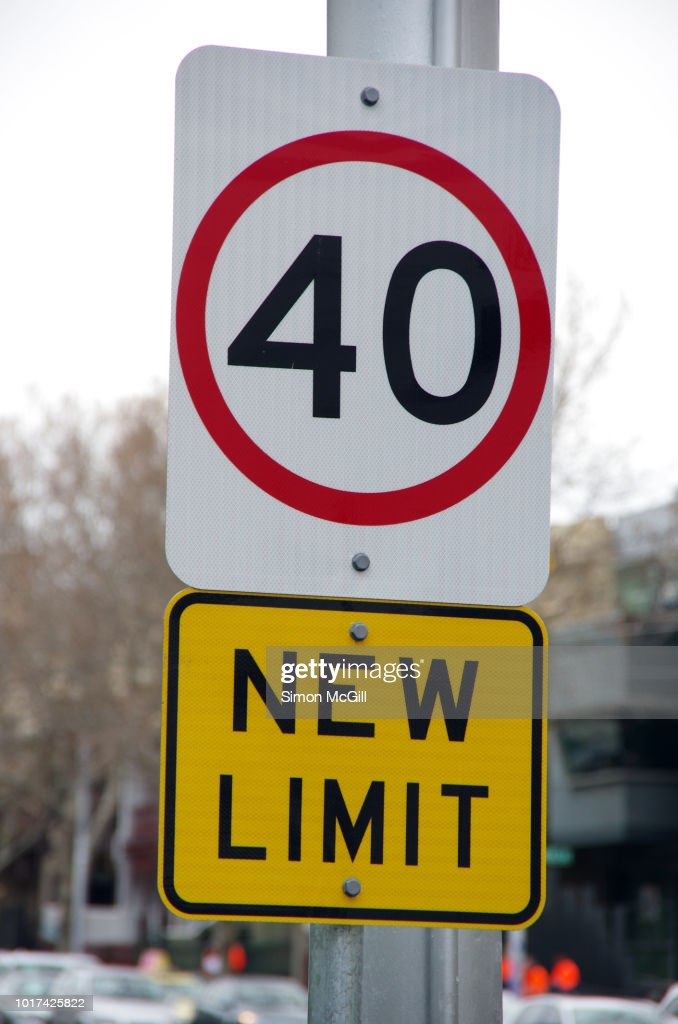40 Km/hr: (179, 131, 550, 522)
